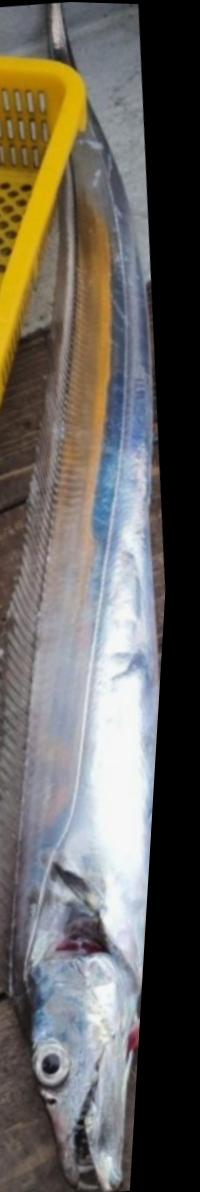fish: (0, 8, 168, 1191)
